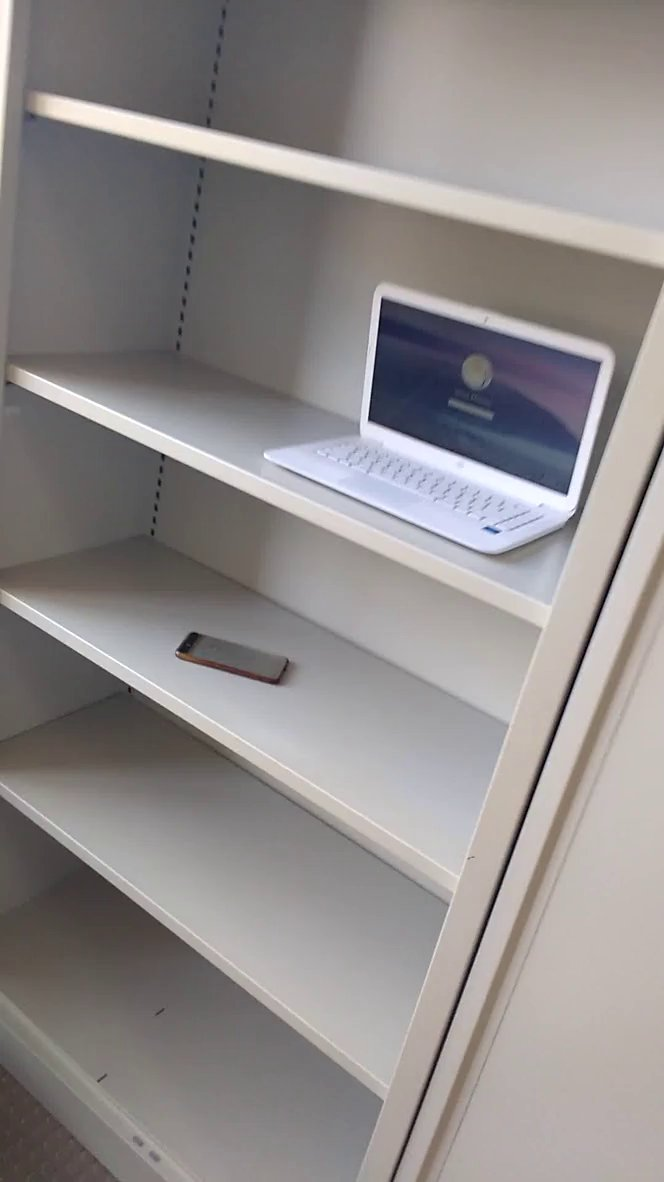laptop: (248, 274, 626, 566)
phone: (169, 622, 296, 689)
